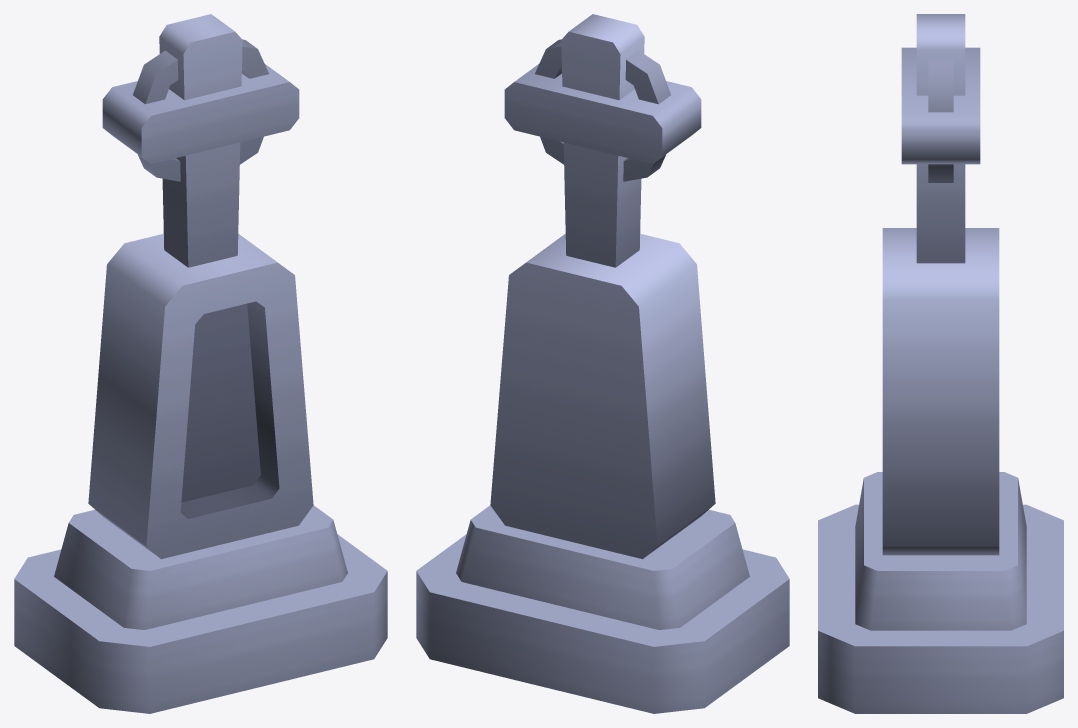
The model's file is grave.gravestone_cross.glb.
The picture shows the model from 3 angles, left to right: view 1: azimuth 30°, elevation 25°; view 2: azimuth 150°, elevation 25°; view 3: azimuth 270°, elevation 25°; orthographic projection.
Visible parts, largest first — view 1: gravestone-cross; view 2: gravestone-cross; view 3: gravestone-cross.
Part boxes in pixels (x1,y1,x2,y2): gravestone-cross: (14,14,387,713); gravestone-cross: (416,14,789,713); gravestone-cross: (818,14,1063,713).
Bounding box in the file's own units: 1.07 × 2.18 × 0.7875.
Materials: 1 (1 with a texture image).
